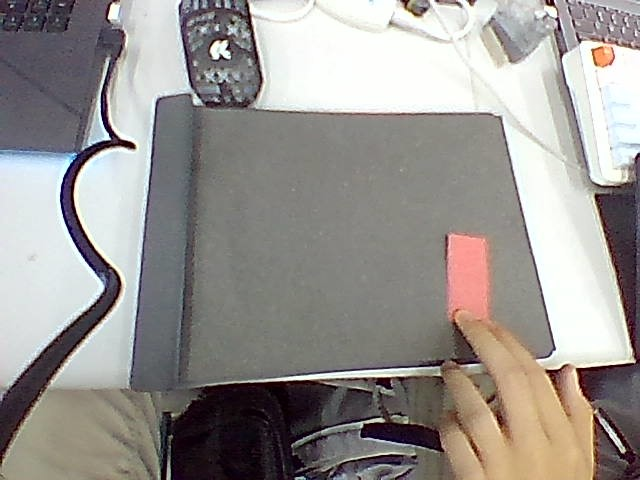card: (447, 233, 489, 316)
